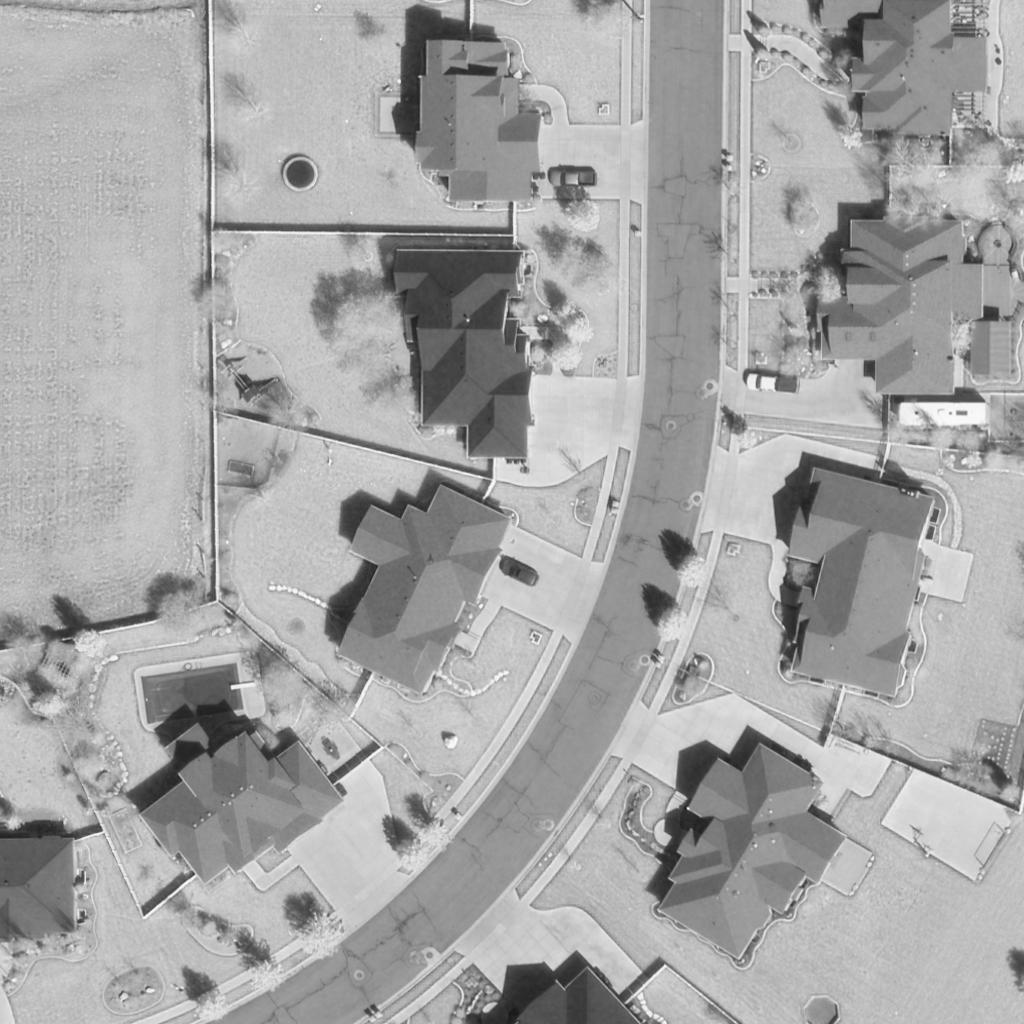vehicle: (895, 402, 991, 428), (746, 372, 800, 396), (501, 555, 539, 589), (549, 169, 597, 187)
